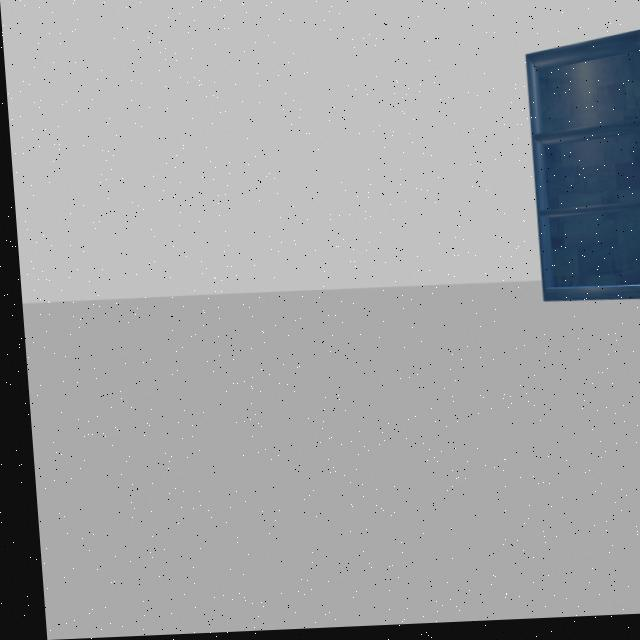shelf: (517, 24, 640, 321)
